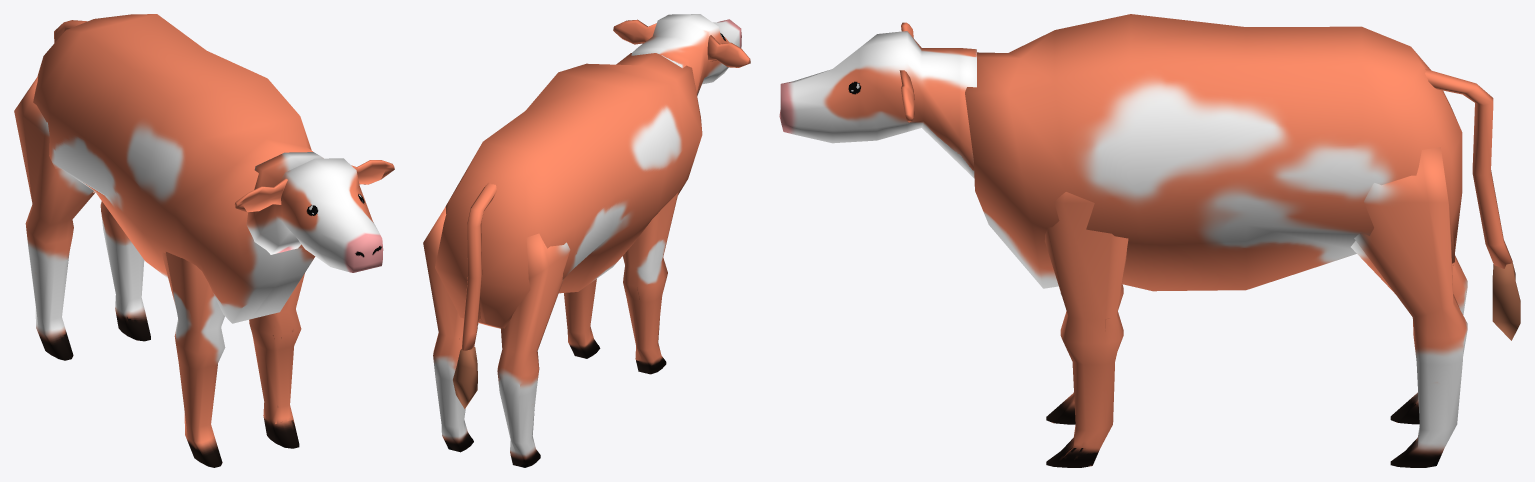
The model's file is red_cow.fbx.
3 views of the same model, side by side, from view 1: azimuth 30°, elevation 25°; view 2: azimuth 150°, elevation 25°; view 3: azimuth 270°, elevation 25° (orthographic). The views are drawn at different scales.
Parts seen in each view (by area): view 1: Cube.001, Cube, back leg 2, front leg 2, front leg 1, back leg 1, ear2, ear1; view 2: Cube.001, back leg 2, front leg 2, back leg 1, Cube, tail, front leg 1, tail end, ear2, ear1; view 3: Cube.001, back leg 1, Cube, front leg 1, tail, tail end, back leg 2.
Boxes of the visible parts, x1,y1,x2,y2 form: Cube.001: (33,14,315,323); Cube: (246,152,383,272); back leg 2: (14,76,94,360); front leg 2: (161,251,225,467); front leg 1: (249,273,304,448); back leg 1: (100,201,150,341); ear2: (234,178,287,212); ear1: (351,160,394,184); Cube.001: (435,53,702,328); back leg 2: (497,233,570,467); front leg 2: (623,191,678,374); back leg 1: (423,206,478,452); Cube: (631,14,741,95); tail: (461,182,496,350); front leg 1: (564,279,600,358); tail end: (453,346,477,408); ear2: (707,35,750,67); ear1: (613,19,656,44); Cube.001: (965,14,1462,291); back leg 1: (1351,147,1467,467); Cube: (779,31,976,178); front leg 1: (1045,192,1128,467); tail: (1425,69,1512,268); tail end: (1492,262,1520,340); back leg 2: (1390,255,1467,424).
Size of the model in its own units: 320 by 659 by 1105.
